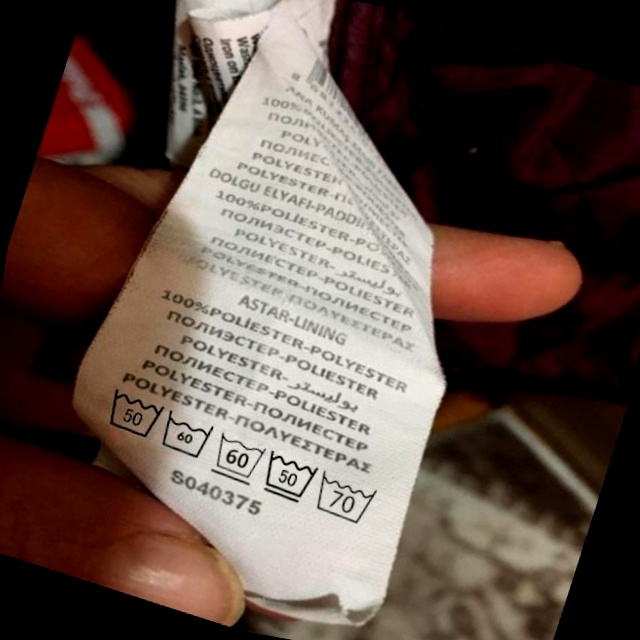50C: (95, 378, 172, 447), (254, 445, 325, 511)
60C: (206, 426, 273, 490), (153, 405, 221, 467)
70C: (309, 467, 386, 532)
